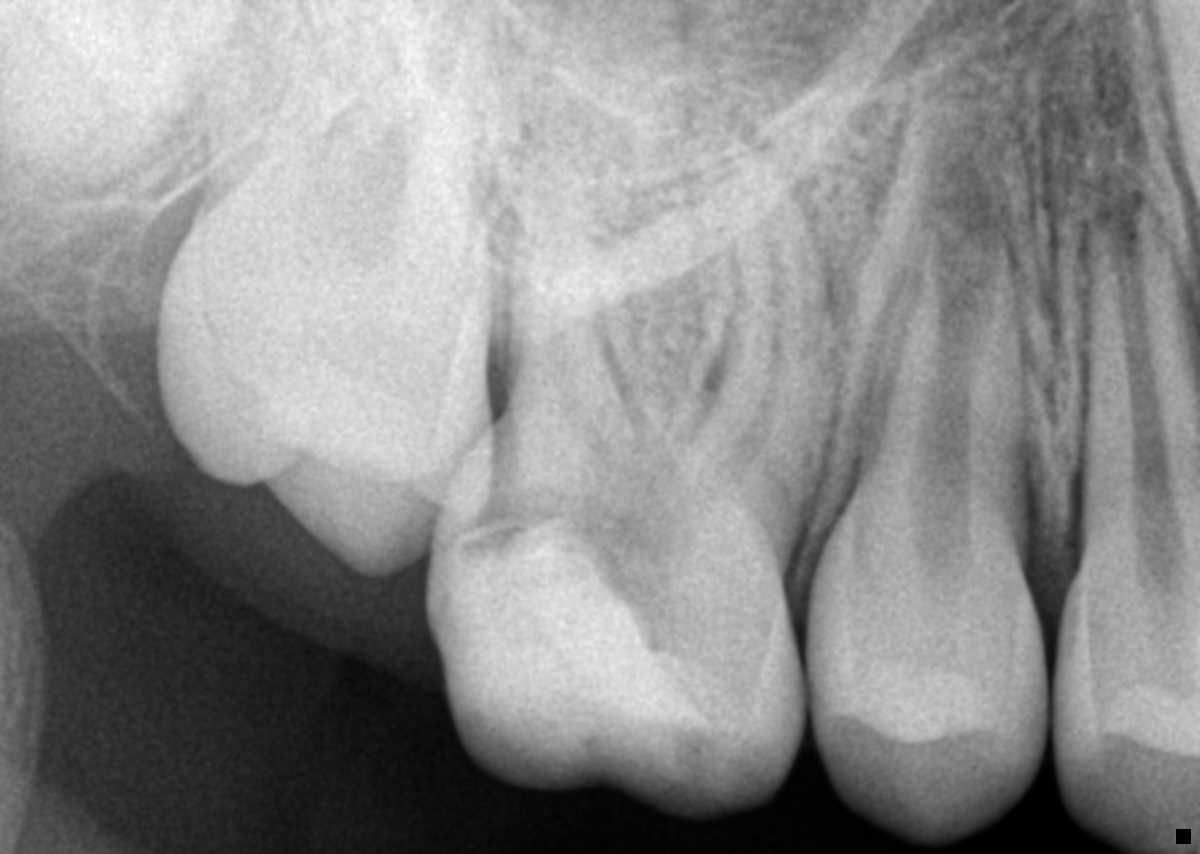Distal Root: (507, 130, 640, 450)
Main Root: (836, 233, 1033, 554), (1075, 196, 1200, 528)
Mesial Canal: (716, 165, 792, 481)
Mesial Root: (684, 120, 839, 523)
Palatal Root: (507, 0, 728, 472)
decay: (483, 487, 695, 645)
